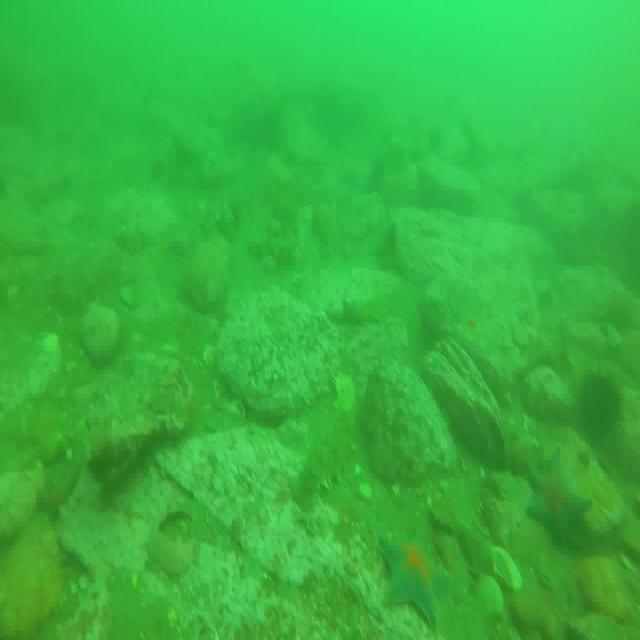echinus: (583, 375, 625, 446)
holothurian: (297, 409, 355, 508)
scallop: (475, 545, 523, 622)
starfish: (379, 528, 449, 626), (526, 452, 590, 549)
